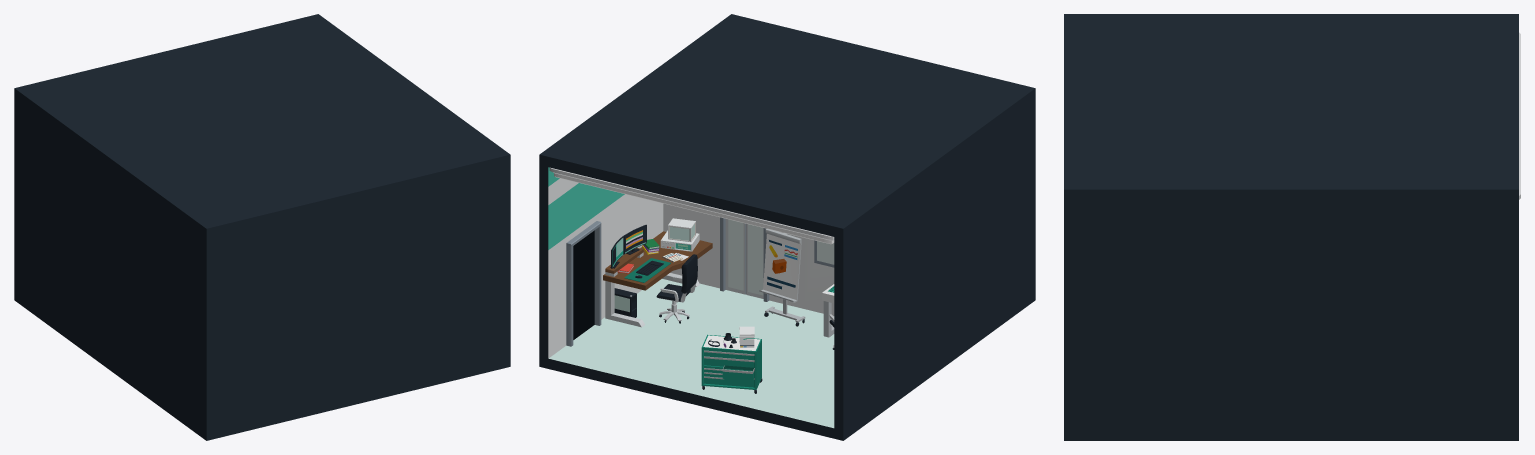
File: Room_research_003.fbx
The picture shows the model from 3 angles, left to right: view 1: azimuth 30°, elevation 25°; view 2: azimuth 150°, elevation 25°; view 3: azimuth 270°, elevation 25°; orthographic projection. The views are drawn at different scales.
Parts seen in each view (by area): view 1: Room_Tiny_001.004, Room_Tiny_001.001; view 2: Room_Tiny_001.001, Room_Tiny_001.004; view 3: Room_Tiny_001.001, Room_Tiny_001.004.
Part boxes in pixels (box(x1,y1,x2,y2)): Room_Tiny_001.004: box(129, 98, 510, 440); Room_Tiny_001.001: box(14, 14, 432, 383); Room_Tiny_001.001: box(539, 70, 958, 440); Room_Tiny_001.004: box(654, 14, 1035, 356); Room_Tiny_001.001: box(1247, 14, 1520, 440); Room_Tiny_001.004: box(1064, 14, 1247, 440).
Bounding box in the file's own units: 600 × 400 × 659.
